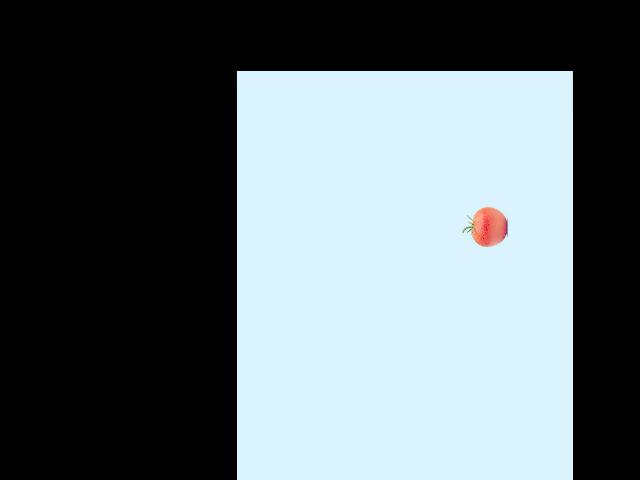tomato: (472, 206, 506, 246)
